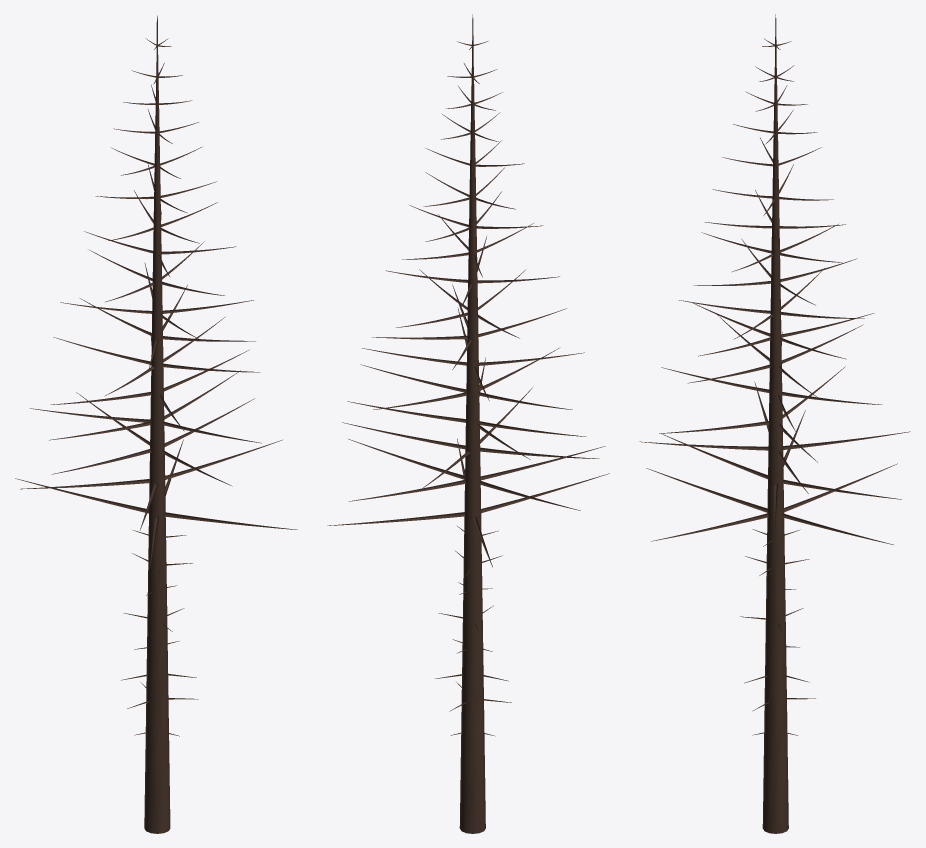
Rendered from SM_Tree_larch_0_bare.glb.
3 renders of one model, left to right at view 1: azimuth 30°, elevation 25°; view 2: azimuth 150°, elevation 25°; view 3: azimuth 270°, elevation 25°, orthographic.
Parts seen in each view (by area): view 1: SM_Tree_larch_0_bare; view 2: SM_Tree_larch_0_bare; view 3: SM_Tree_larch_0_bare.
Part boxes in pixels (x1,y1,x2,y2): SM_Tree_larch_0_bare: (15,15,297,833); SM_Tree_larch_0_bare: (327,14,609,833); SM_Tree_larch_0_bare: (639,14,910,833).
Size of the model in its own units: 5.89 by 18.35 by 5.56.
